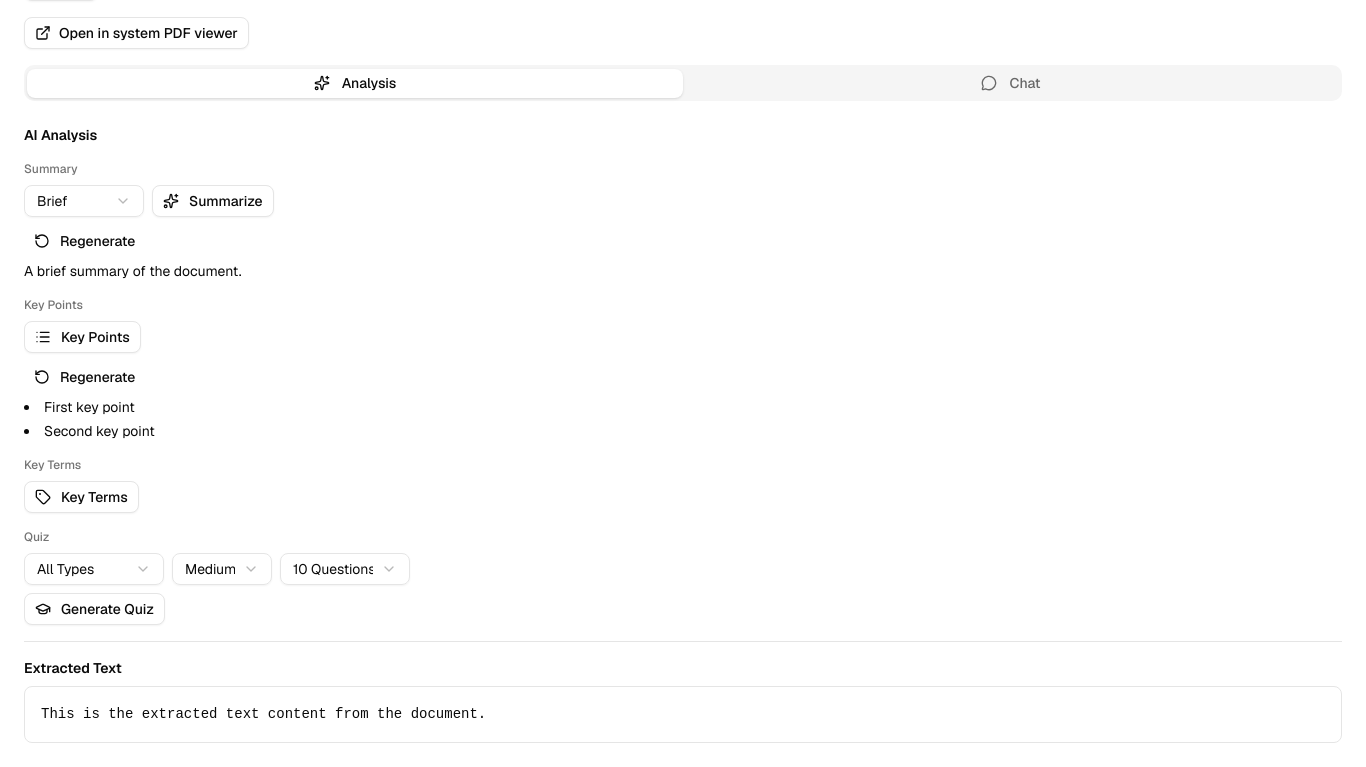
Test case: Quiz UI Integration › refreshes quiz list after quiz generation completes (done event)
(page scrolled)
Note: Click generate quiz to start processing
What coordinates should you click on to do the following:
click the button "Generate Quiz"
I would click on:
 (94, 609)
Its box is [24, 593, 165, 625].
(page scrolled)
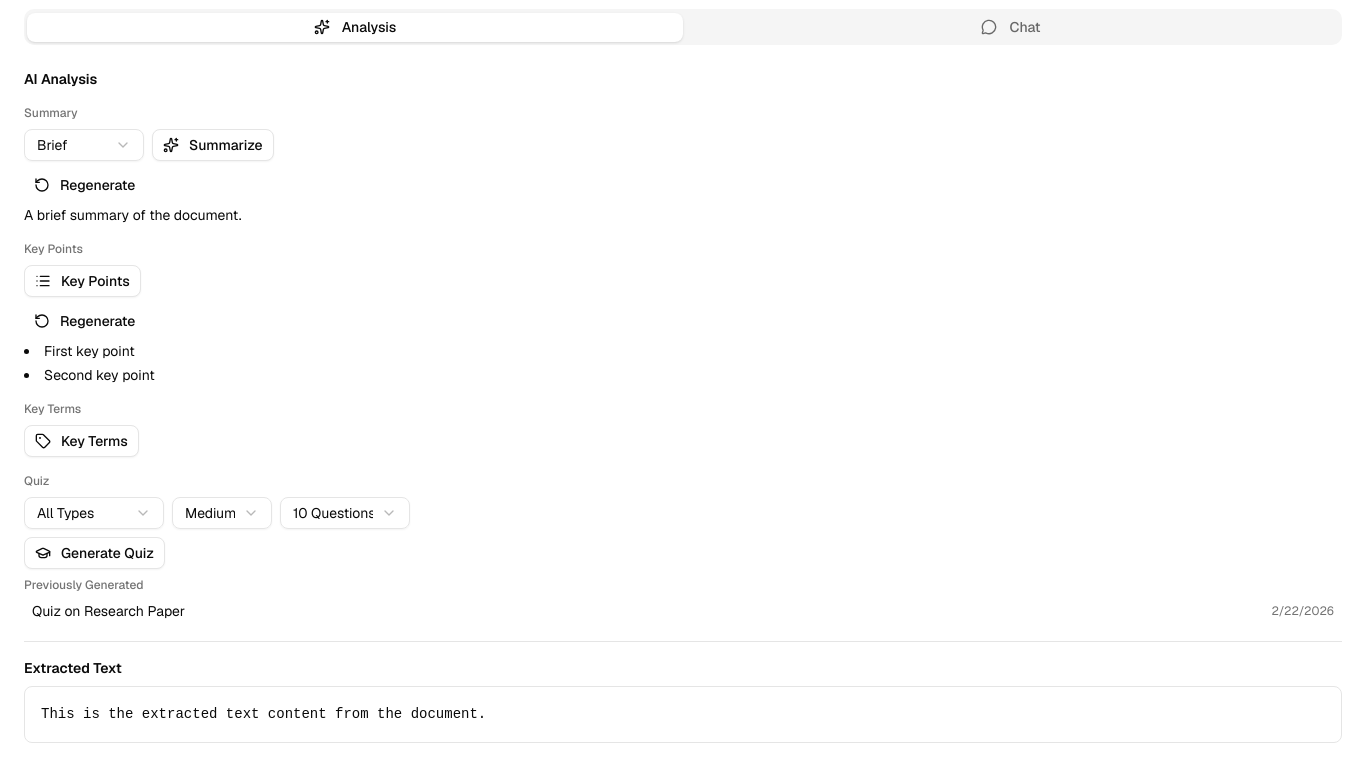
Result: the text "Quiz on Research Paper" is shown at [32, 601, 185, 621]
